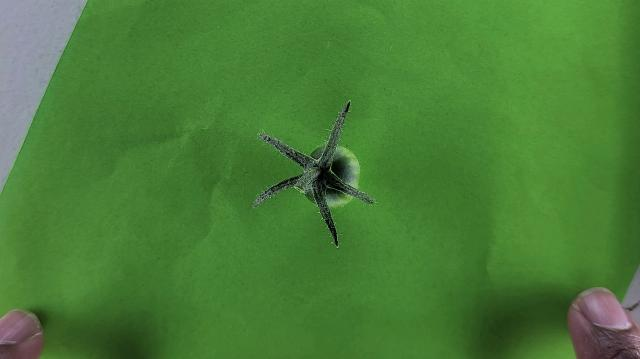Fruit Maturation: (304, 143, 363, 207)
